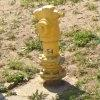a fire hydrant: (32, 7, 69, 81)
